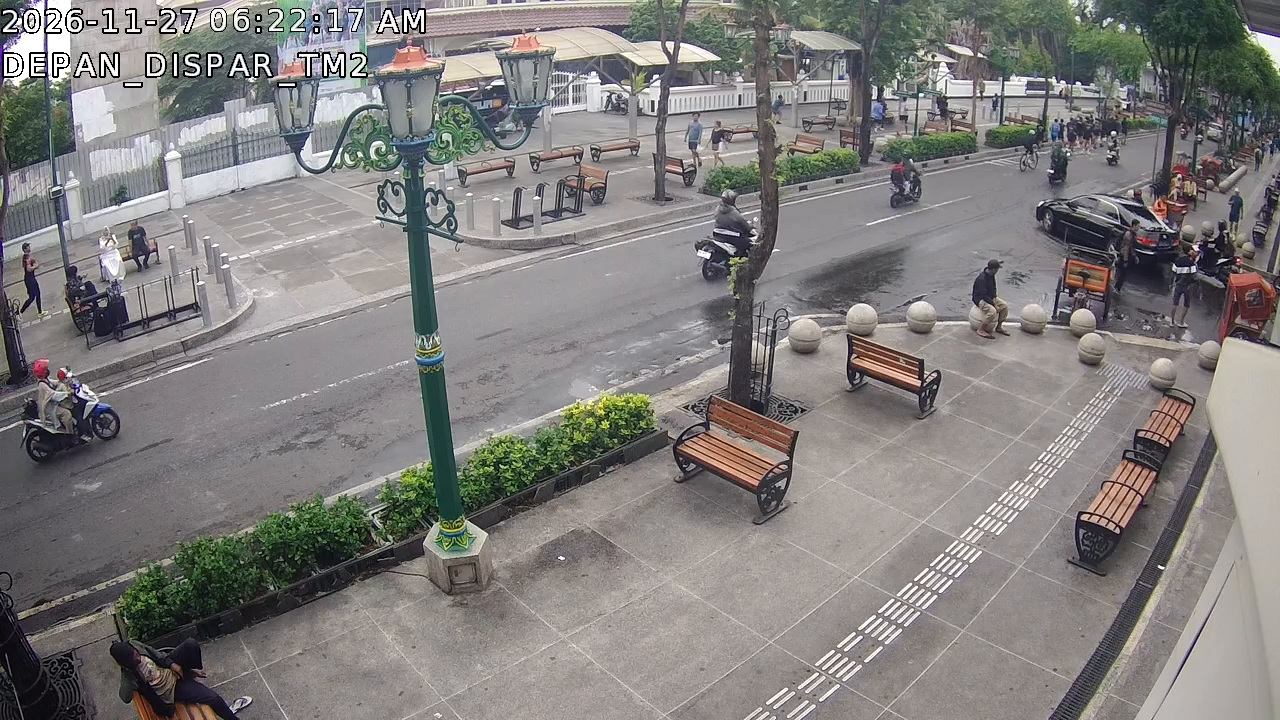Gerobak: (1051, 243, 1117, 323), (1217, 270, 1277, 343)
